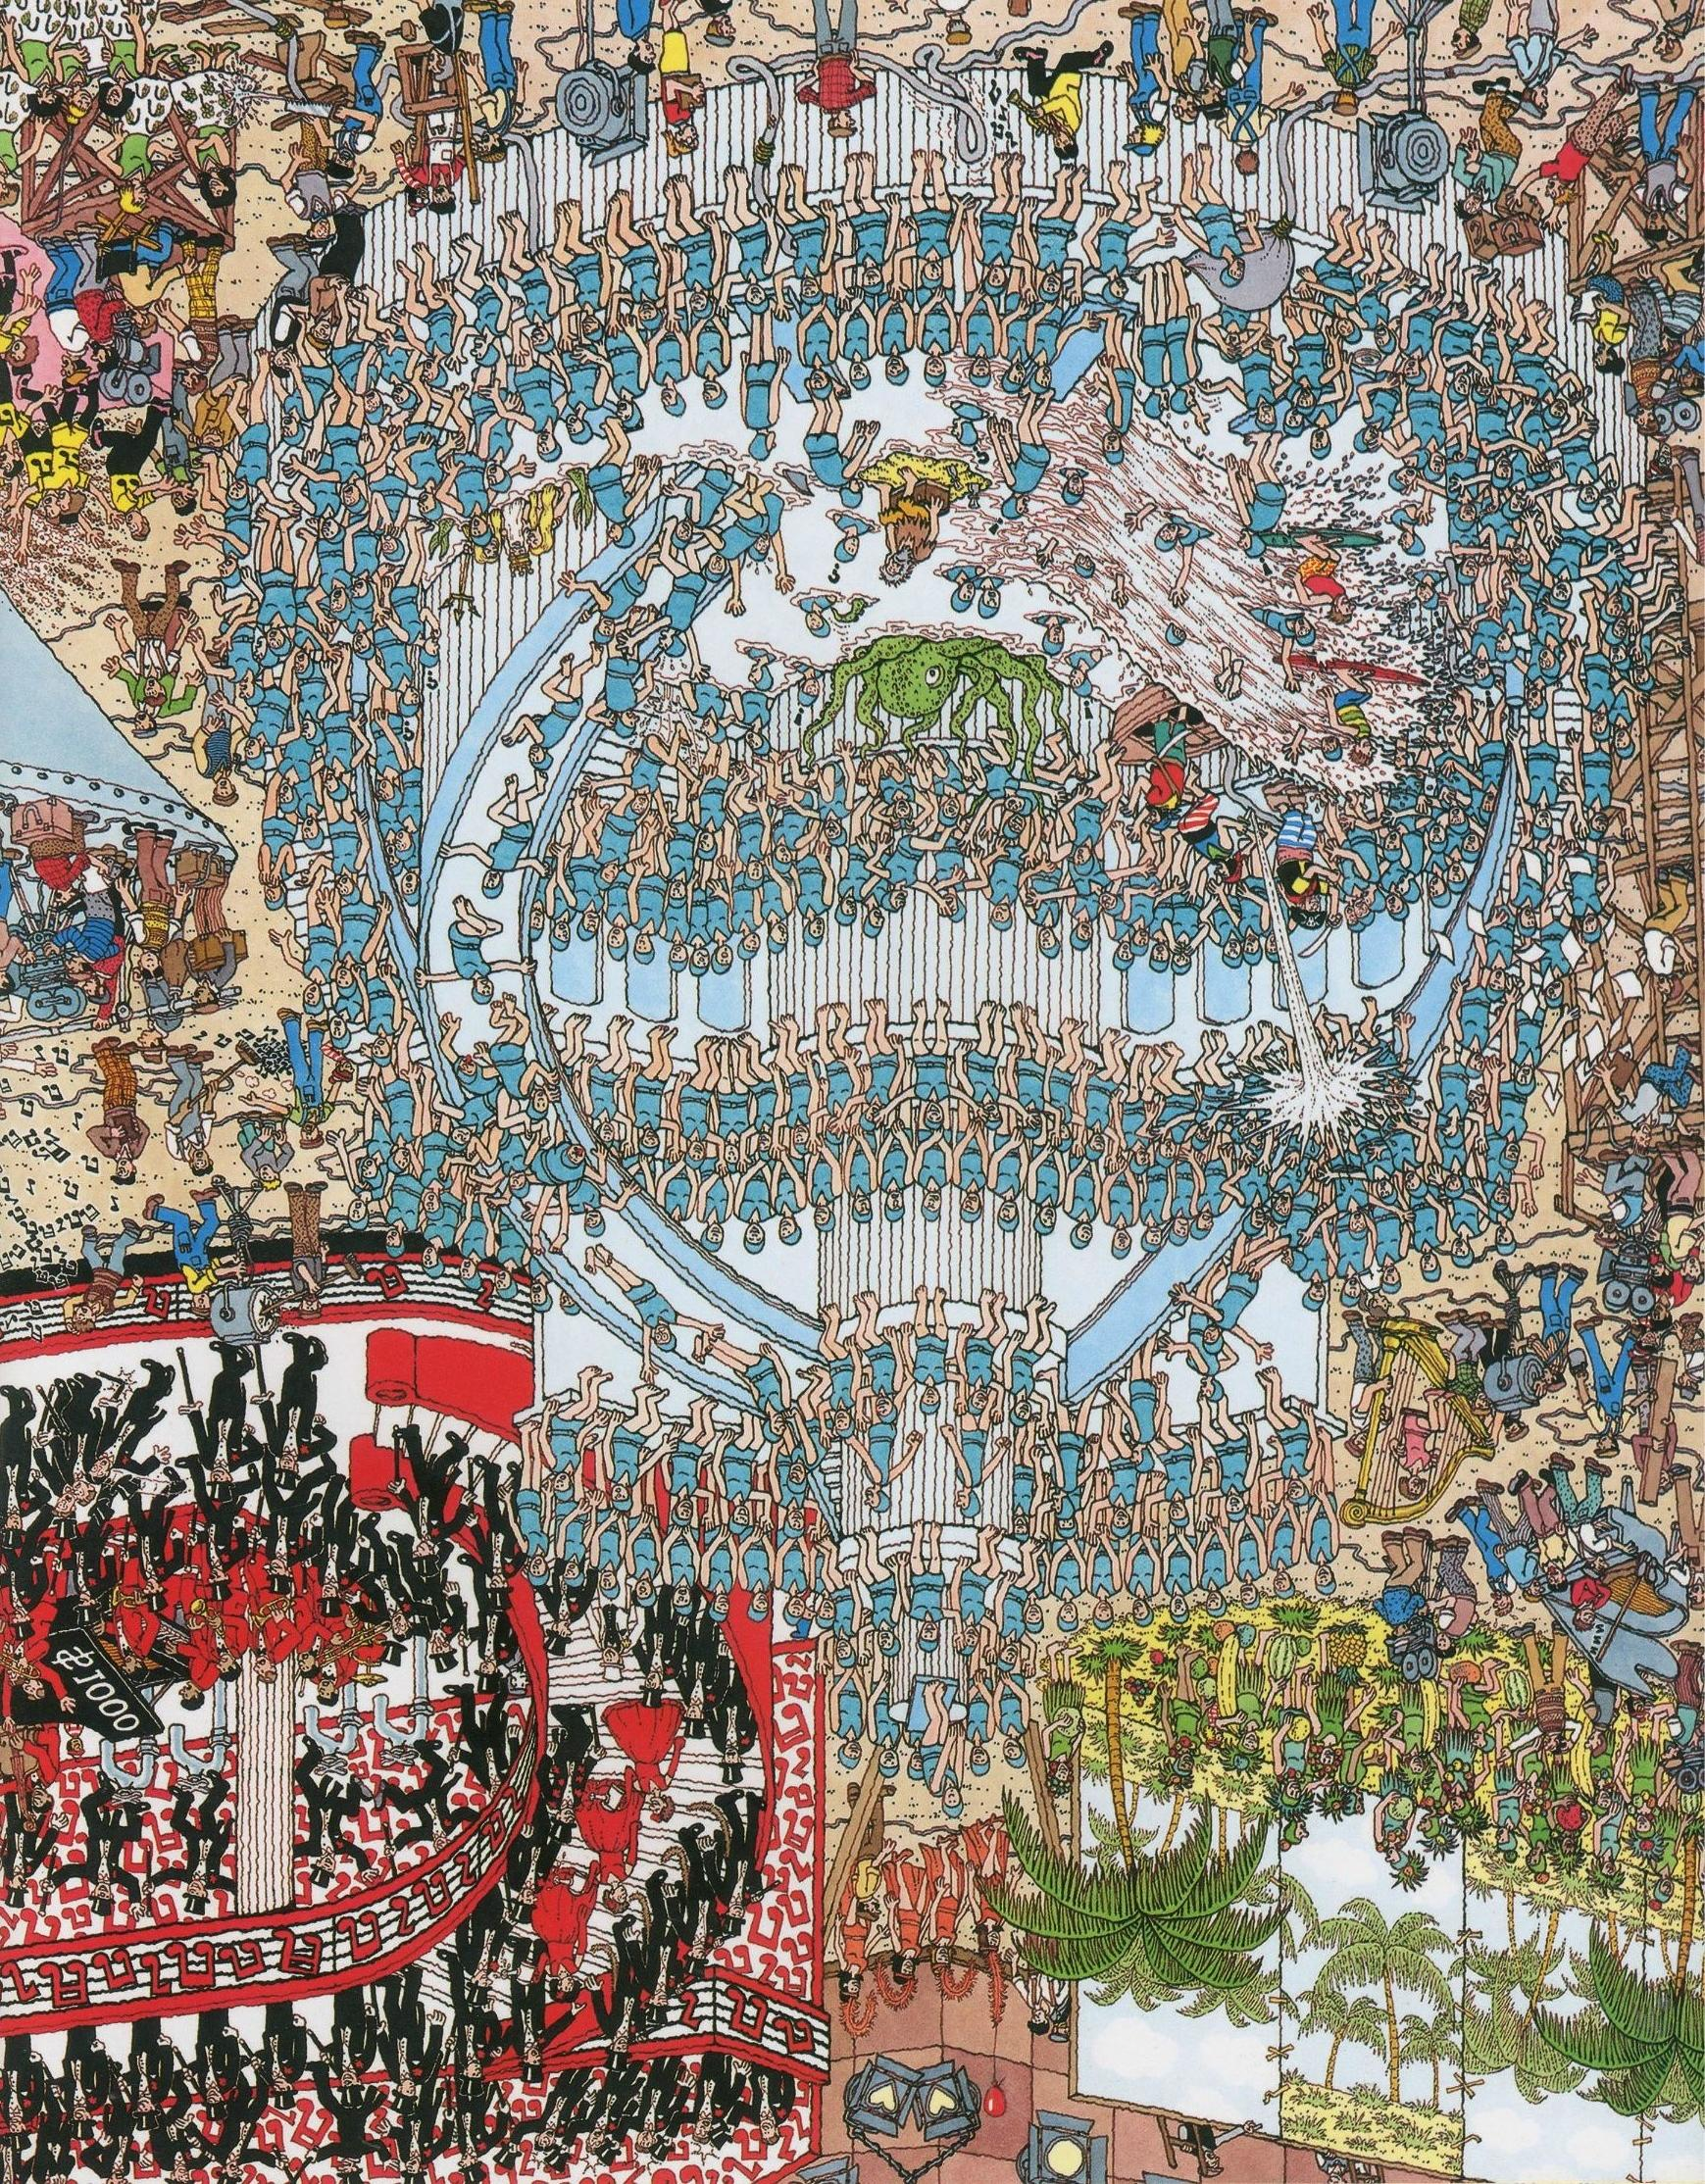waldos: (1641, 434, 1675, 486)
